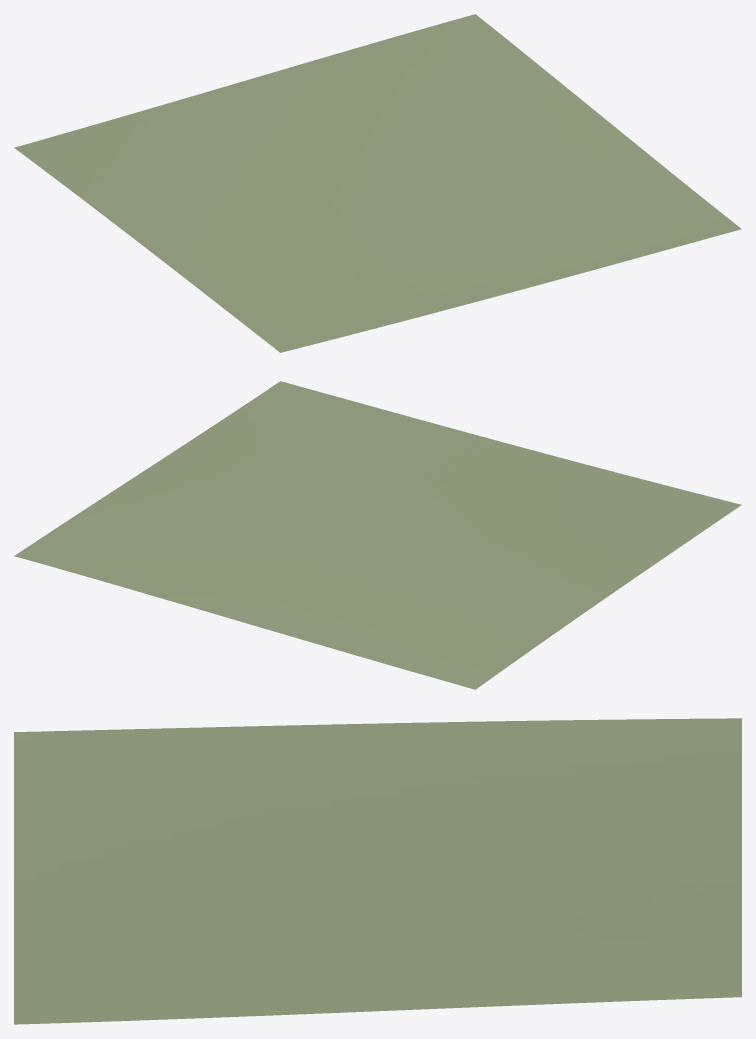
The model's file is expanse-21-18.glb.
The picture shows the model from 3 angles, top to bottom: view 1: azimuth 30°, elevation 25°; view 2: azimuth 150°, elevation 25°; view 3: azimuth 270°, elevation 25°; orthographic projection. The views are drawn at different scales.
Visible parts, largest first — view 1: expanse-21-18; view 2: expanse-21-18; view 3: expanse-21-18.
Boxes of the visible parts, left/top/right/bottom form: expanse-21-18: left=14, top=14, right=741, bottom=352; expanse-21-18: left=14, top=381, right=741, bottom=689; expanse-21-18: left=14, top=718, right=741, bottom=1024.
Bounding box in the file's own units: 256 × 16.54 × 256.
